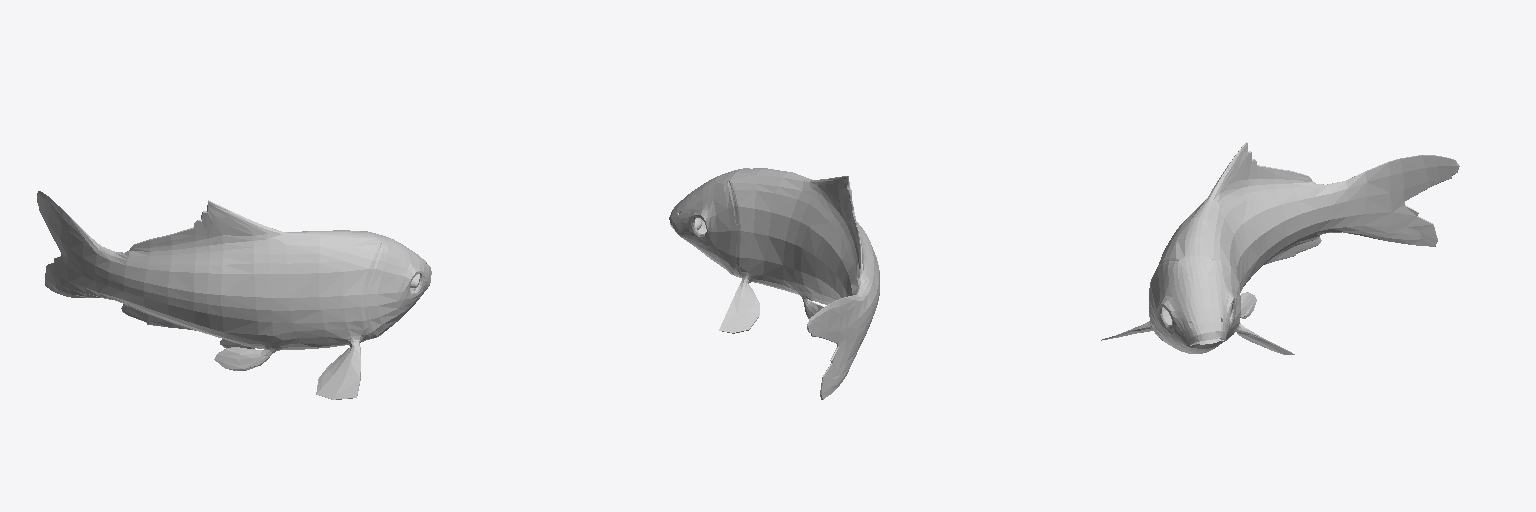
Rendered from TB1z8jNRVXXXXazXpXXXXXXXXXX.obj.
The picture shows the model from 3 angles: view 1: azimuth 30°, elevation 25°; view 2: azimuth 150°, elevation 25°; view 3: azimuth 270°, elevation 25°; orthographic projection.
Parts seen in each view (by area): view 1: dlochhea_lighting_centralStreetExports_v018:Carp_body_0 dlochhea; view 2: dlochhea_lighting_centralStreetExports_v018:Carp_body_0 dlochhea; view 3: dlochhea_lighting_centralStreetExports_v018:Carp_body_0 dlochhea.
Part boxes in pixels (x1,y1,x2,y2): dlochhea_lighting_centralStreetExports_v018:Carp_body_0 dlochhea: (37,191,431,399); dlochhea_lighting_centralStreetExports_v018:Carp_body_0 dlochhea: (669,168,879,399); dlochhea_lighting_centralStreetExports_v018:Carp_body_0 dlochhea: (1101,142,1459,354).
Bounding box in the file's own units: 7693 × 4576 × 8900.